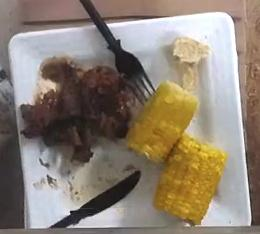beef: (20, 58, 128, 162)
corn: (154, 134, 226, 224), (127, 80, 196, 160)
